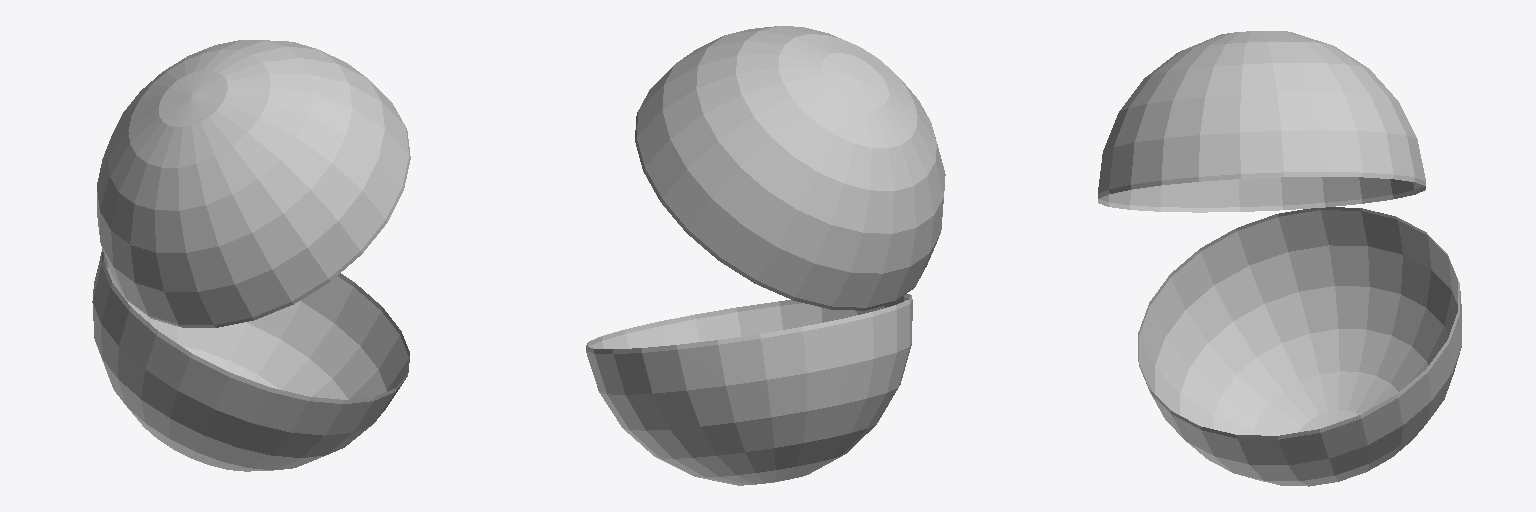
The model's file is PacWorm.obj.
The picture shows the model from 3 angles: view 1: azimuth 30°, elevation 25°; view 2: azimuth 150°, elevation 25°; view 3: azimuth 270°, elevation 25°; orthographic projection.
Visible parts, largest first — view 1: Mesh1 halve_bol1 half_sphere1 Model, Mesh2 halve_bol2 half_sphere2 Model; view 2: Mesh1 halve_bol1 half_sphere1 Model, Mesh2 halve_bol2 half_sphere2 Model; view 3: Mesh2 halve_bol2 half_sphere2 Model, Mesh1 halve_bol1 half_sphere1 Model.
Boxes of the visible parts, x1,y1,x2,y2 form: Mesh1 halve_bol1 half_sphere1 Model: [97, 40, 410, 327]; Mesh2 halve_bol2 half_sphere2 Model: [92, 249, 409, 471]; Mesh1 halve_bol1 half_sphere1 Model: [635, 26, 945, 310]; Mesh2 halve_bol2 half_sphere2 Model: [586, 294, 912, 485]; Mesh2 halve_bol2 half_sphere2 Model: [1138, 207, 1461, 486]; Mesh1 halve_bol1 half_sphere1 Model: [1098, 31, 1425, 212].
Bounding box in the file's own units: 192 × 262 × 207.